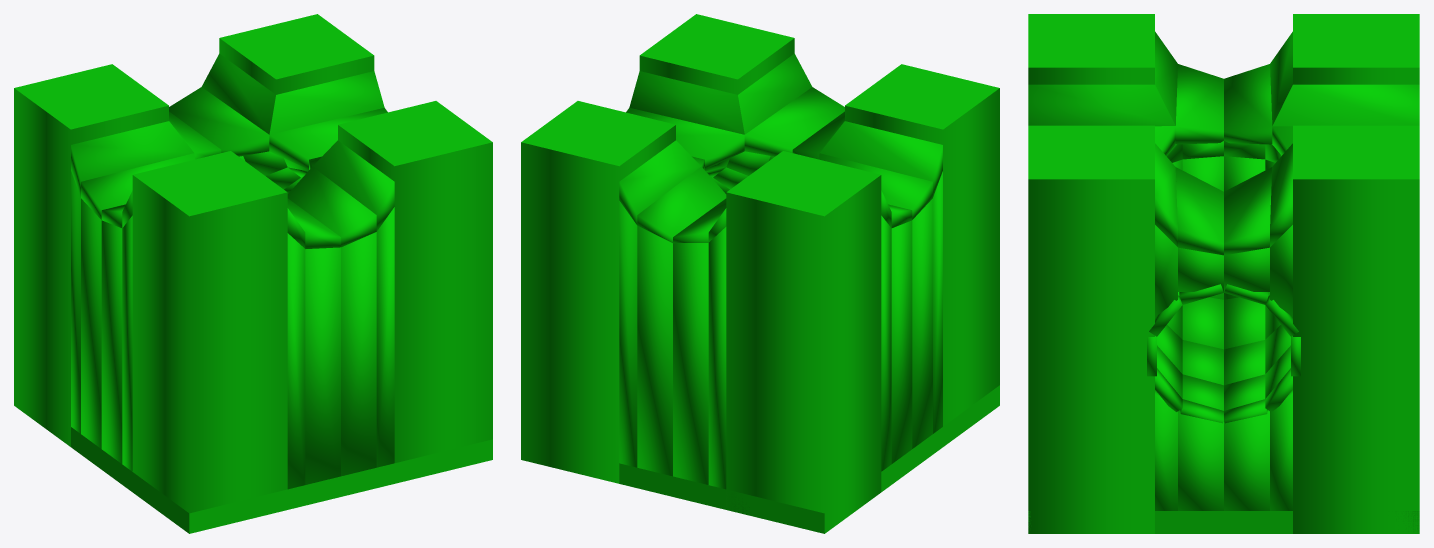
File: UCXKugelbahn.11.fbx
3 renders of one model, left to right at view 1: azimuth 30°, elevation 25°; view 2: azimuth 150°, elevation 25°; view 3: azimuth 270°, elevation 25°, orthographic. The views are drawn at different scales.
Visible parts, largest first — view 1: UCX_Kugelbahn.11_low; view 2: UCX_Kugelbahn.11_low; view 3: UCX_Kugelbahn.11_low.
Boxes of the visible parts, box(x1,y1,x2,y2) form: UCX_Kugelbahn.11_low: box(14, 14, 492, 533); UCX_Kugelbahn.11_low: box(521, 14, 999, 533); UCX_Kugelbahn.11_low: box(1028, 14, 1419, 533).
Bounding box in the file's own units: 0.05 × 0.05 × 0.05.
